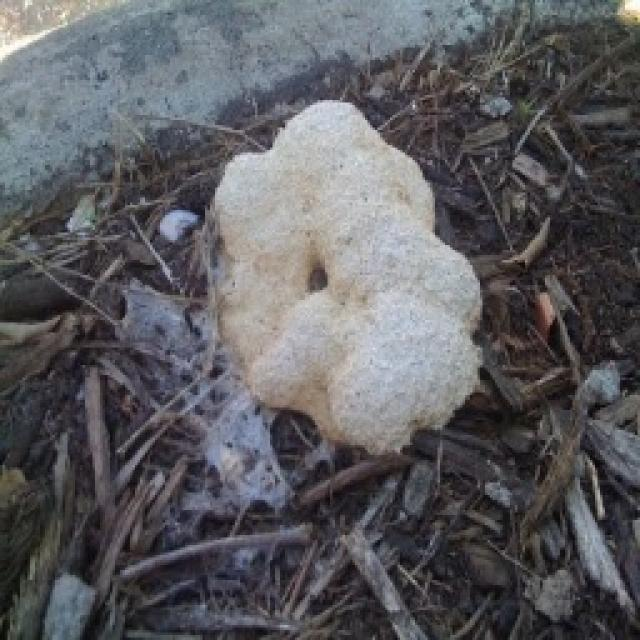Dog_vomit_slime_mold: (182, 104, 489, 465)
